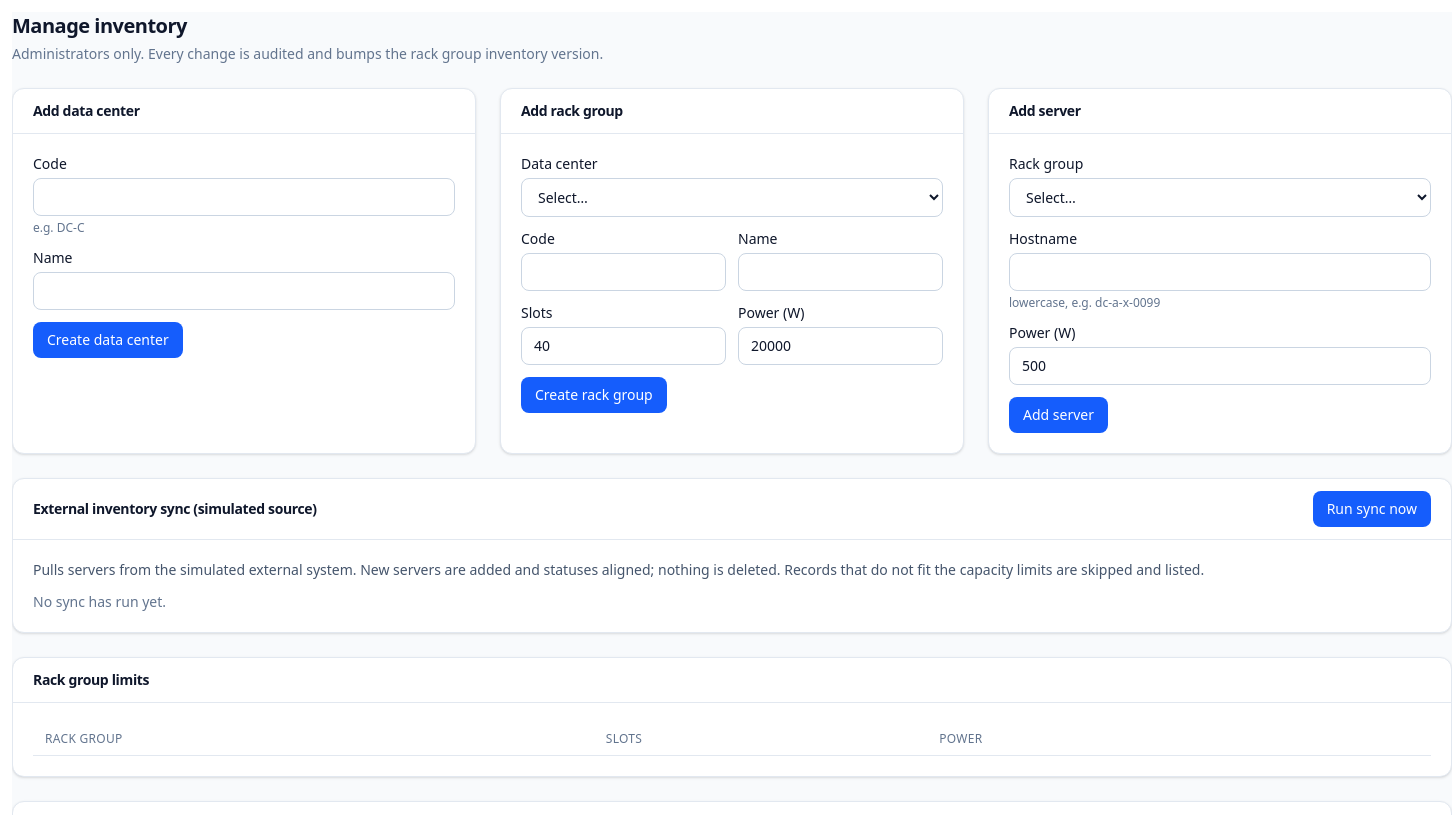
Scenario: inventory sync card › shows the server error when a sync is already running
What coordinates should you click on to do the following:
click the button "Run sync now"
I would click on:
 (1372, 509)
Its box is [1313, 491, 1431, 527].
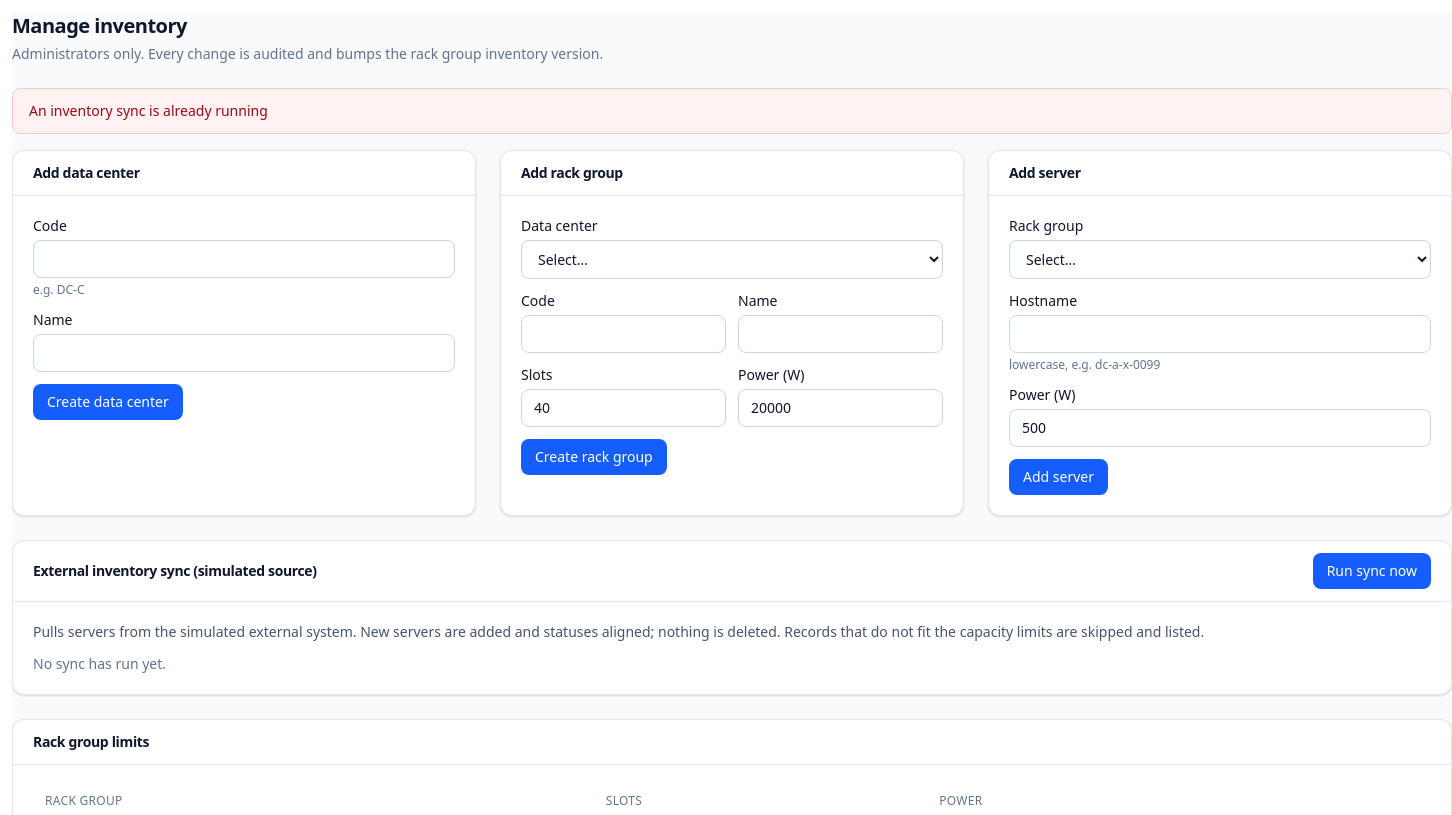
Check: the message reads "An inventory sync is already running", box [29, 101, 268, 120]
